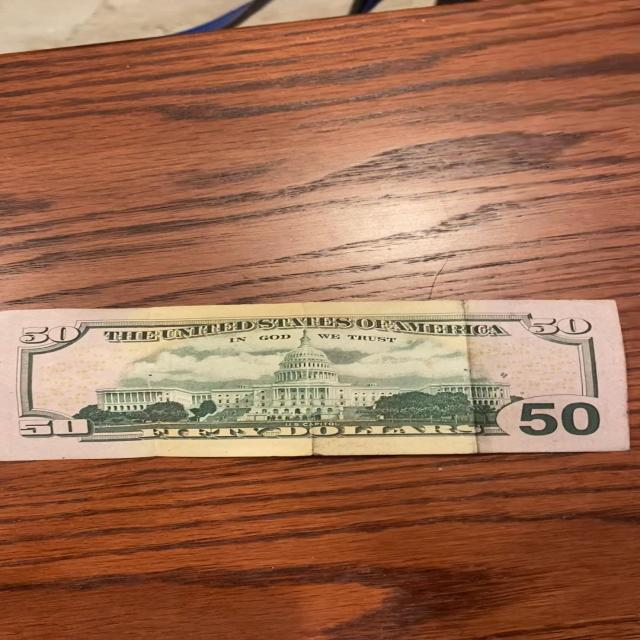50-Back: (0, 296, 636, 465)
